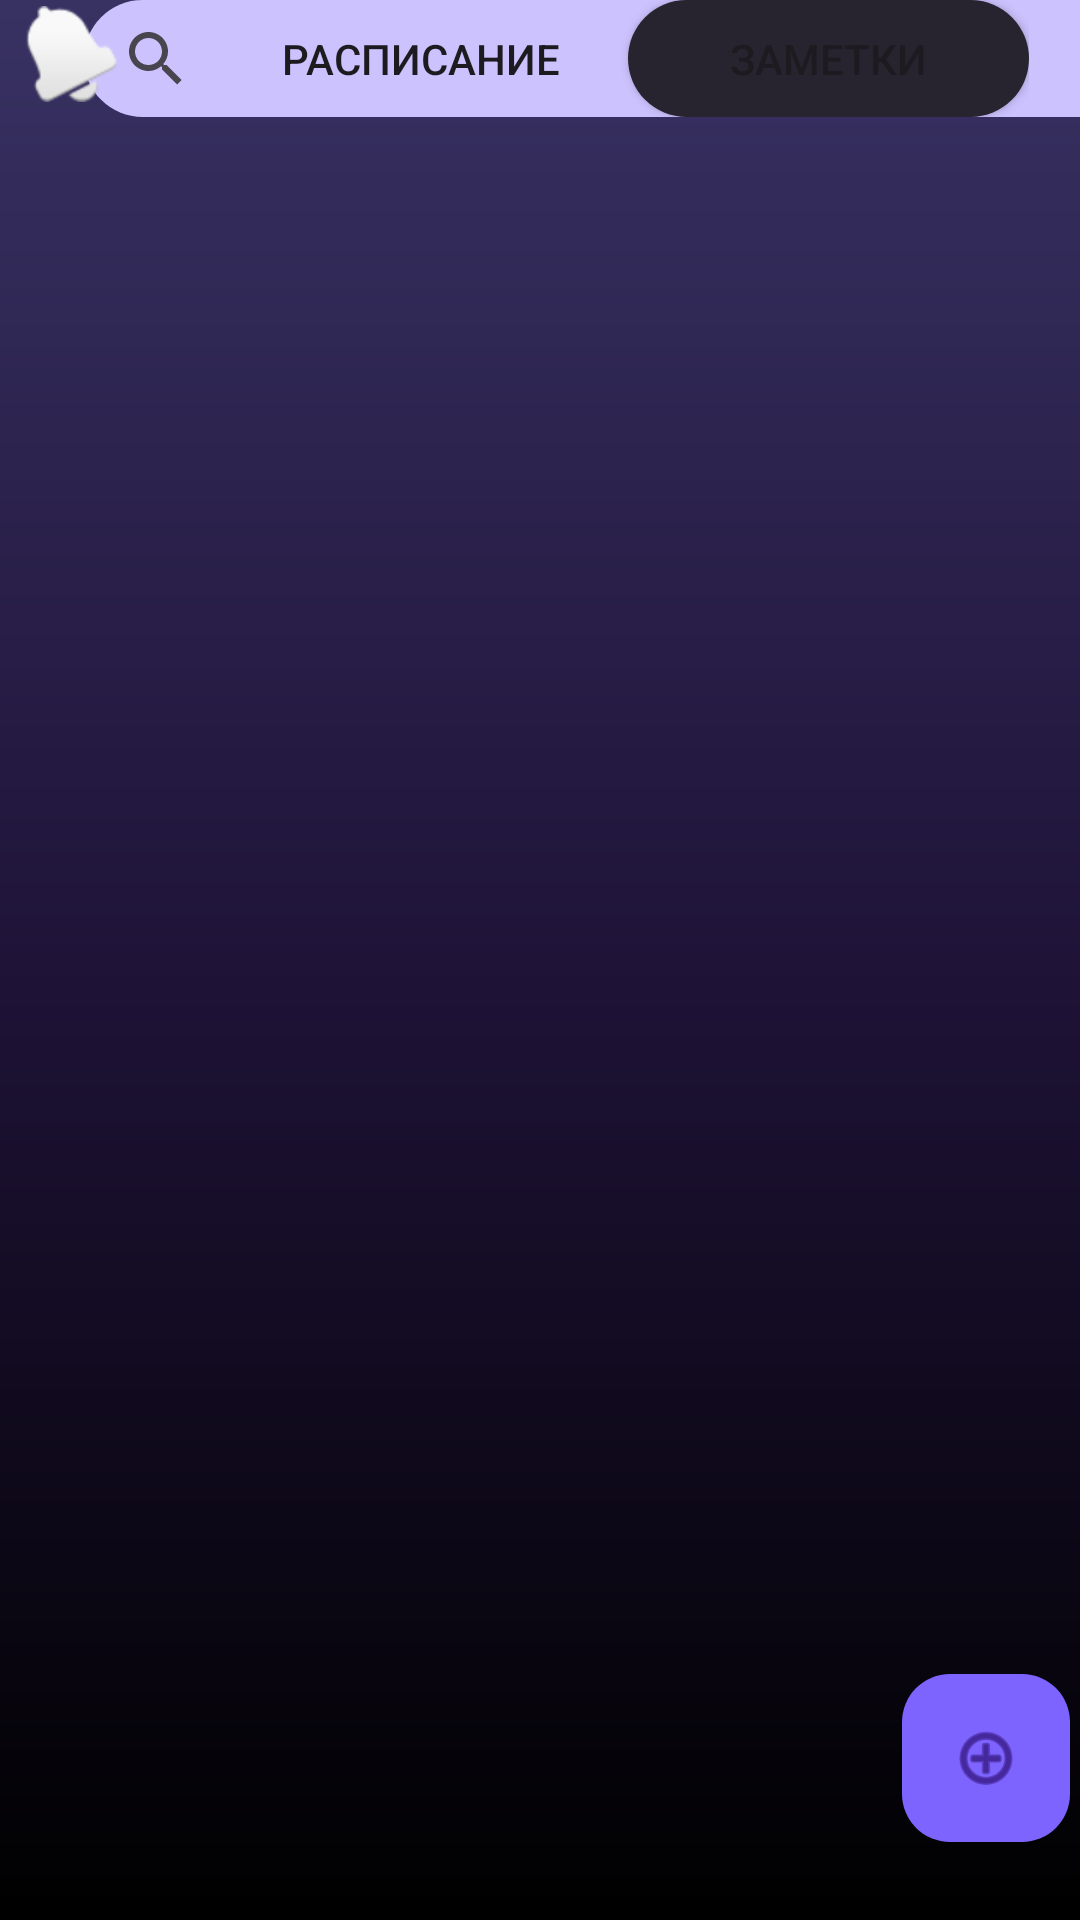

Where to tap for icons on this 1080x1920 app screen, as (x=x, y=y):
add: (x=986, y=1758)
